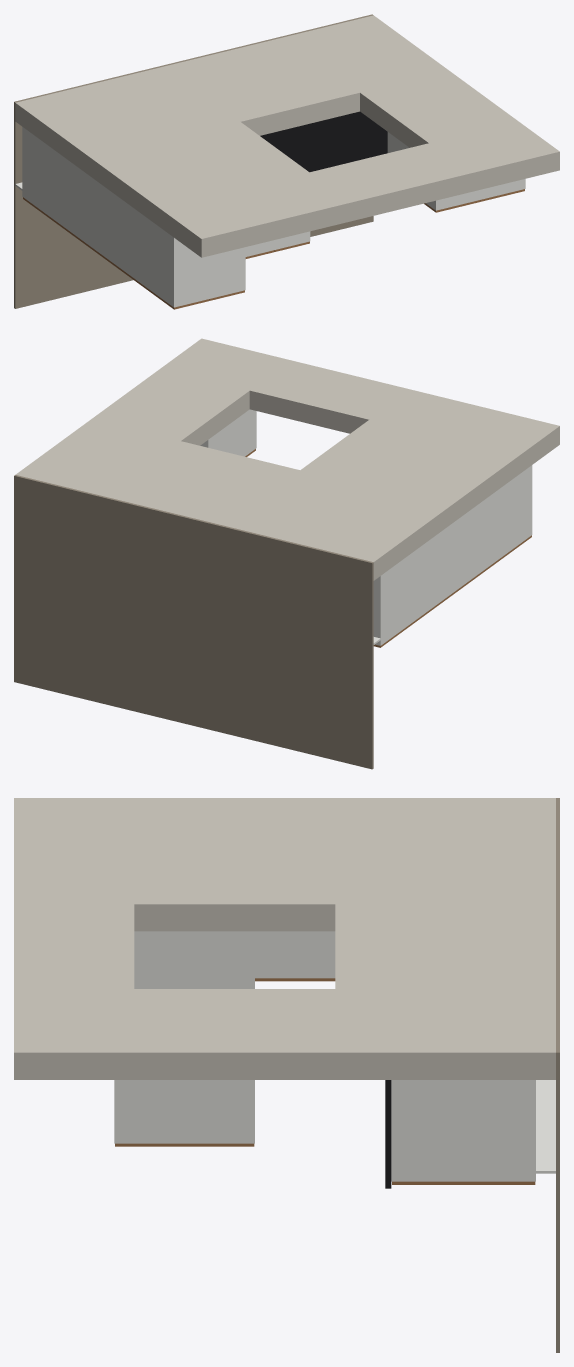
Rendered from MVP_Cozinha_Teste.obj.
The picture shows the model from 3 angles, top to bottom: view 1: azimuth 30°, elevation 25°; view 2: azimuth 150°, elevation 25°; view 3: azimuth 270°, elevation 25°; orthographic projection. The views are drawn at different scales.
Parts seen in each view (by area): view 1: AMBIENTE, M01_tall_cabinet, M02_drawer_cabinet, M06_wall_cabinet, M05_wall_cabinet; view 2: AMBIENTE, M01_tall_cabinet, M06_wall_cabinet; view 3: AMBIENTE, M04_base_cabinet, M06_wall_cabinet, M05_wall_cabinet, M01_tall_cabinet, M02_drawer_cabinet.
Part boxes in pixels (x1,y1,x2,y2): AMBIENTE: (14,14,559,308); M01_tall_cabinet: (15,127,245,309); M02_drawer_cabinet: (260,111,387,172); M06_wall_cabinet: (387,132,525,212); M05_wall_cabinet: (245,231,310,258); AMBIENTE: (14,338,559,769); M01_tall_cabinet: (373,465,532,647); M06_wall_cabinet: (200,409,256,456); AMBIENTE: (14,798,559,1352); M04_base_cabinet: (391,1080,555,1184); M06_wall_cabinet: (114,1080,254,1146); M05_wall_cabinet: (134,931,254,988); M01_tall_cabinet: (255,931,335,981); M02_drawer_cabinet: (385,1080,391,1188).
Size of the model in its own units: 3000 by 1650 by 2720.
